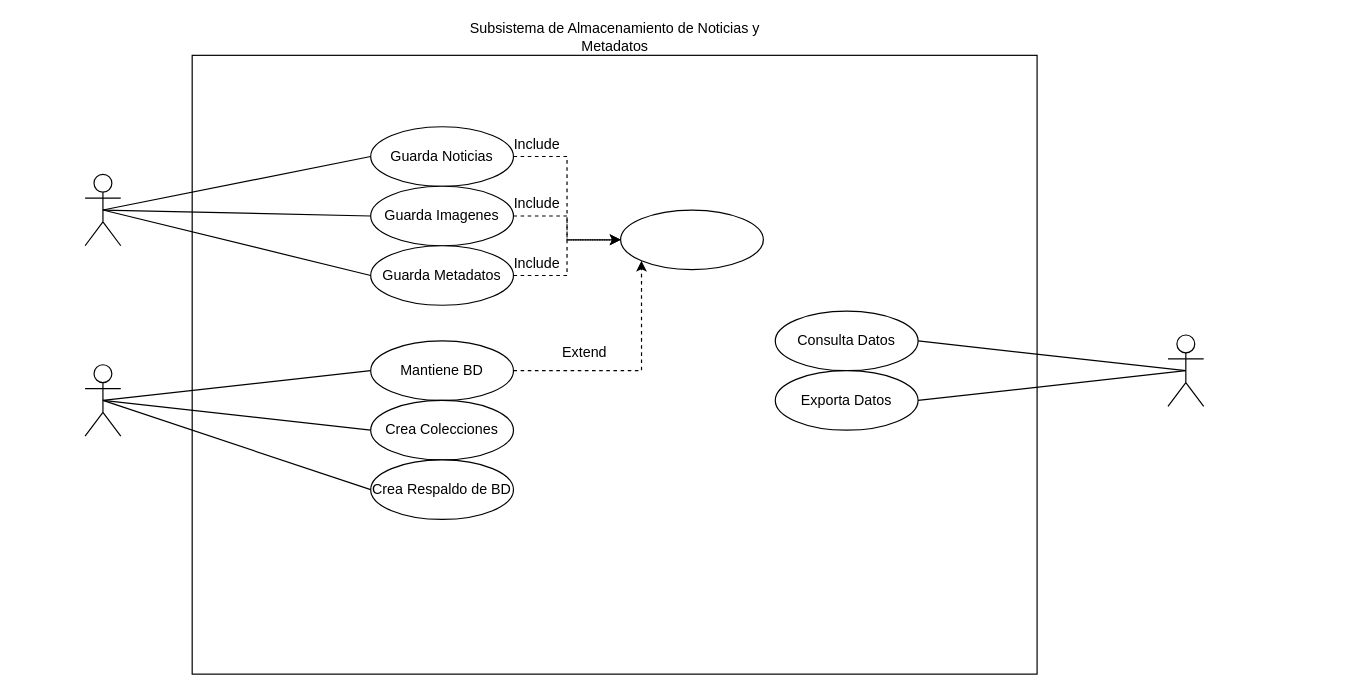
This 1346x695 diagram has some shape labels left out. Here are the shapes that lost their labels. From the top down, the centre of each, then its label:
At pixel 102 209: "Recopilador de Contenido".
At pixel 691 239: "Indexa BD".
At pixel 1185 370: "Subsistema de Consulta y analisis de Datos".
At pixel 102 400: "Administrador".
